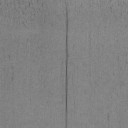surface scratch: (64, 5, 69, 128)
